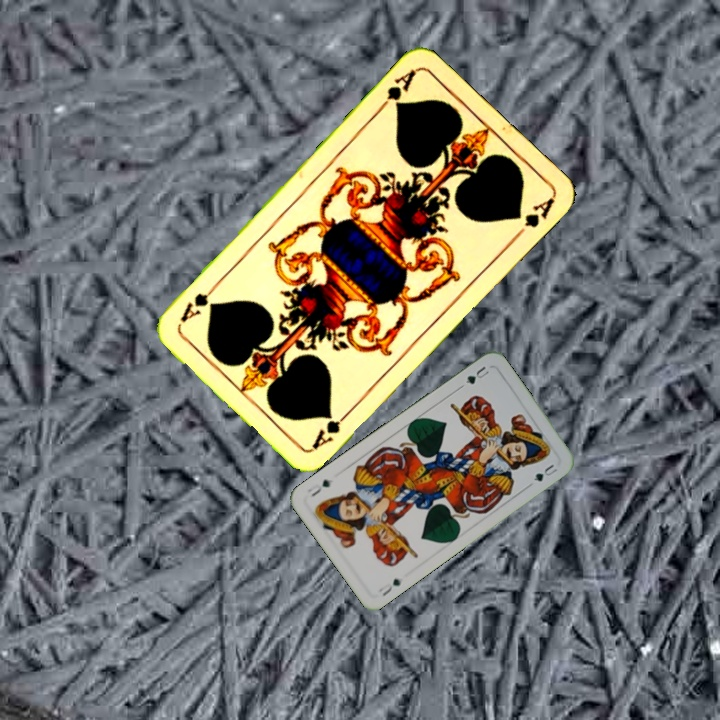GA: (373, 66, 419, 115), (307, 405, 354, 452)
GU: (461, 362, 492, 387), (375, 574, 404, 599)
